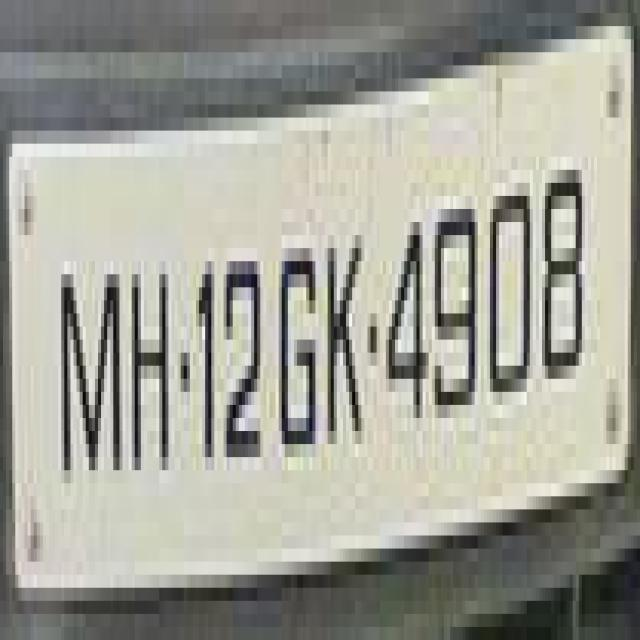license_plate: (6, 0, 606, 627)
